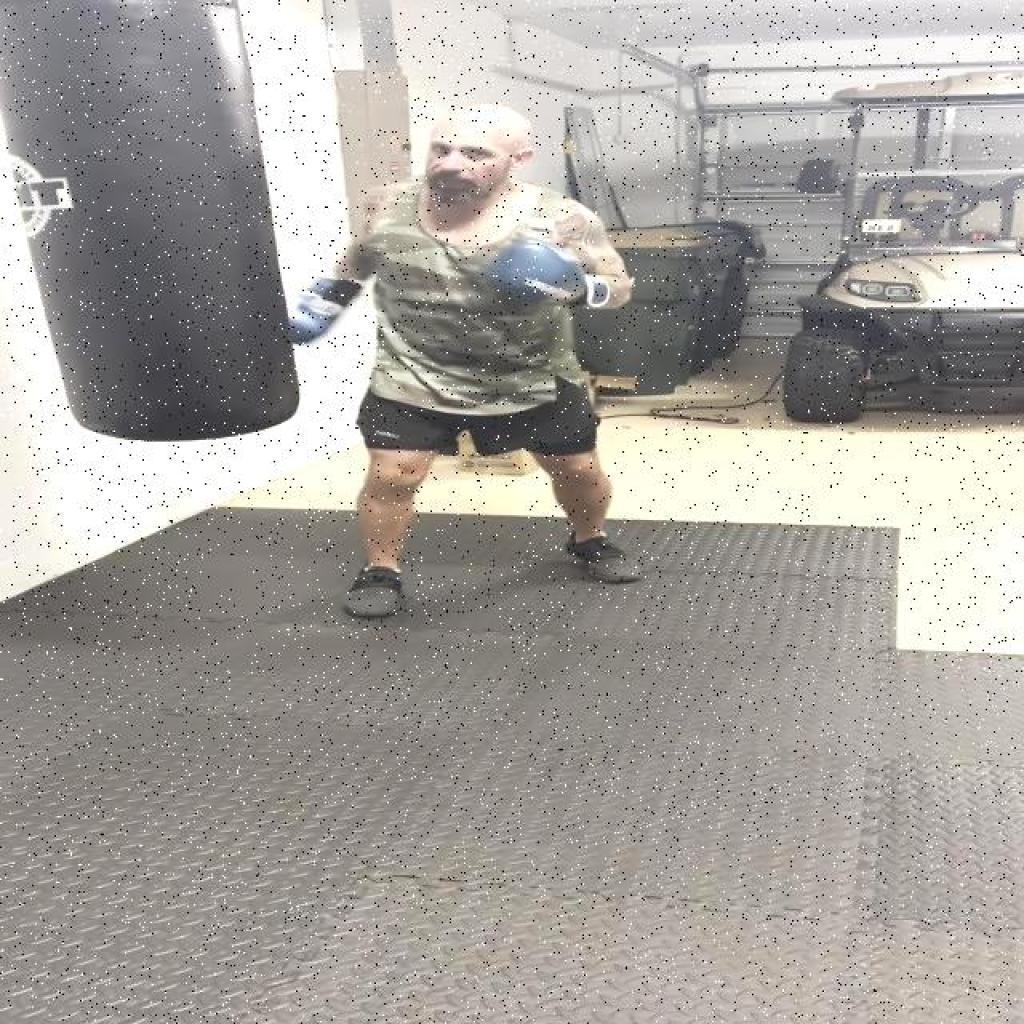bag: (52, 0, 251, 470)
hook: (232, 88, 638, 366)
